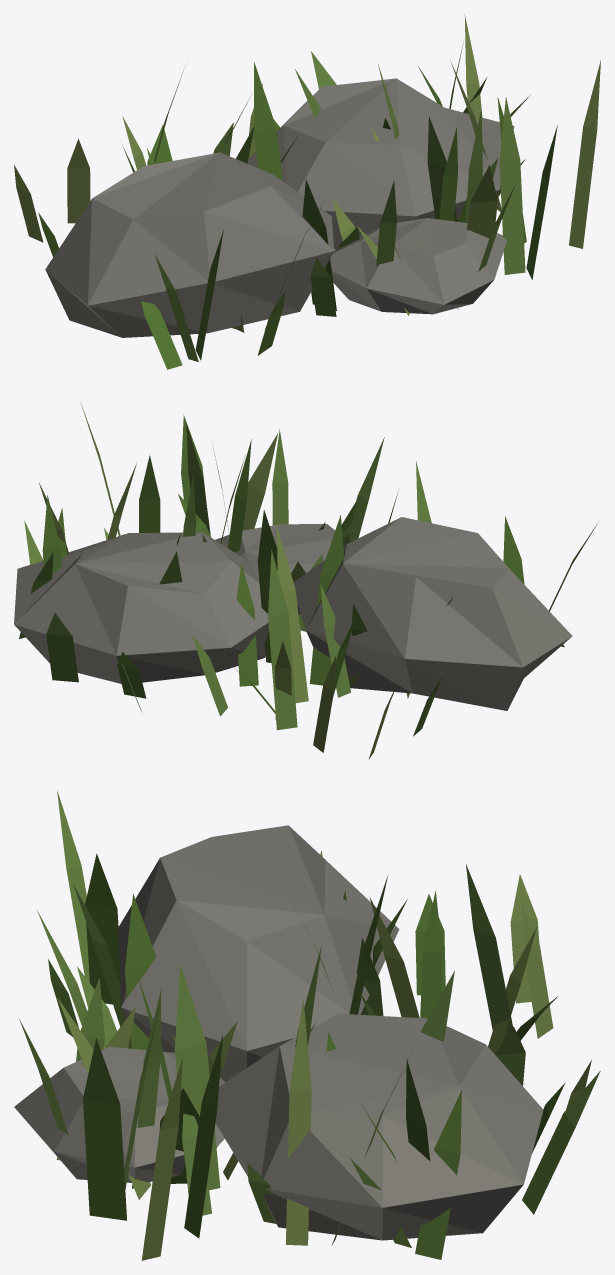
The model's file is riverbank-reeds.obj.
3 views of the same model, one above another, from view 1: azimuth 30°, elevation 25°; view 2: azimuth 150°, elevation 25°; view 3: azimuth 270°, elevation 25° (orthographic). The views are drawn at different scales.
Bounding box in the file's own units: 2.38 × 0.8262 × 1.78.
Materials: 6 (3 with a texture image).
